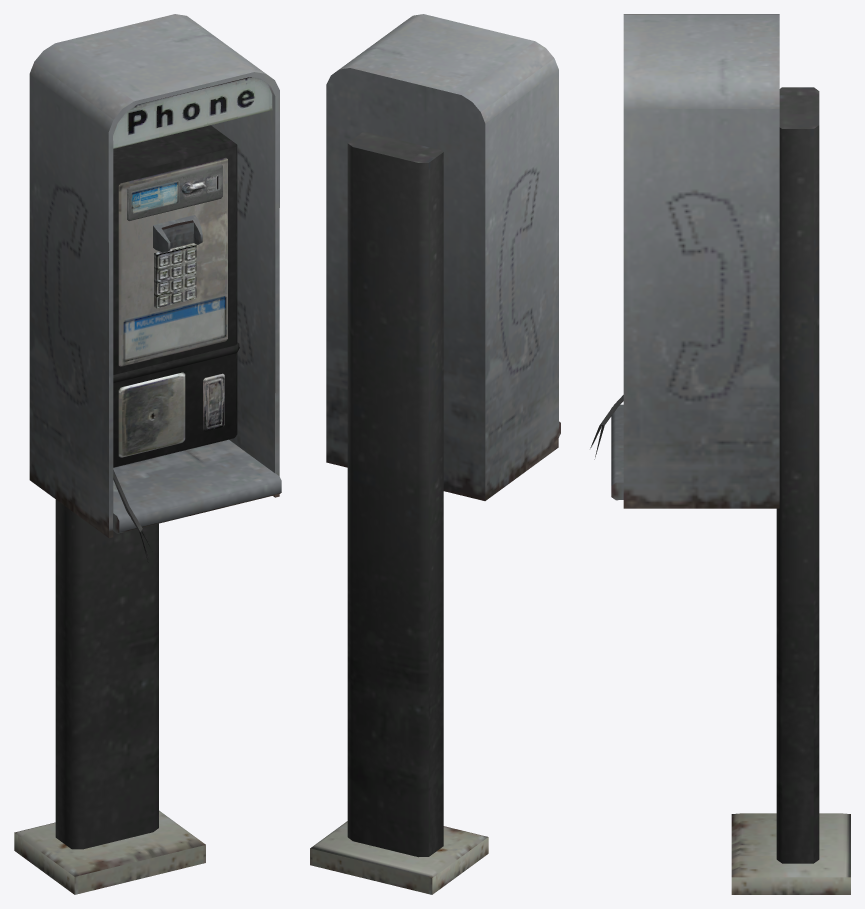
File: payphone001a.fbx
3 renders of one model, left to right at view 1: azimuth 30°, elevation 25°; view 2: azimuth 150°, elevation 25°; view 3: azimuth 270°, elevation 25°, orthographic. The views are drawn at different scales.
Visible parts, largest first — view 1: studiomesh_2; view 2: studiomesh_2; view 3: studiomesh_2.
Part boxes in pixels (bbox=[...]): studiomesh_2: bbox=[14, 14, 281, 894]; studiomesh_2: bbox=[310, 14, 560, 894]; studiomesh_2: bbox=[590, 14, 850, 894].
Bounding box in the file's own units: 15.56 × 72.4 × 20.98.
